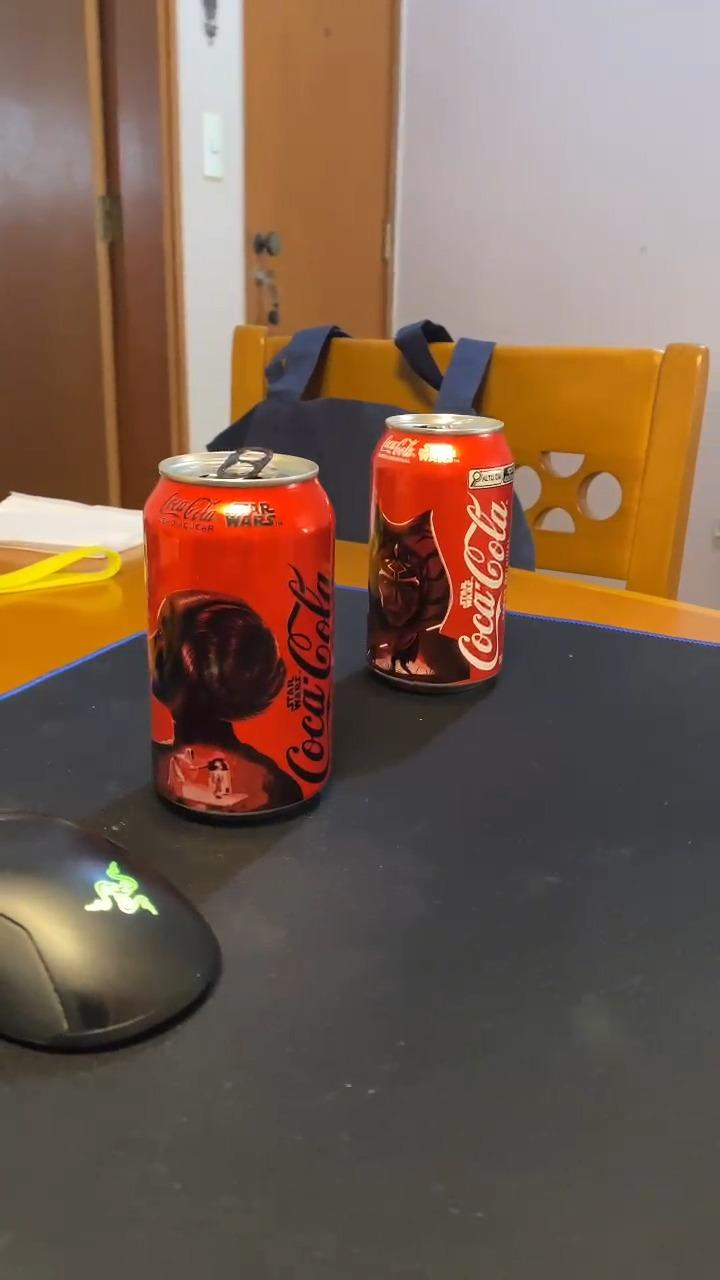coke: (142, 450, 337, 815), (366, 413, 514, 692)
